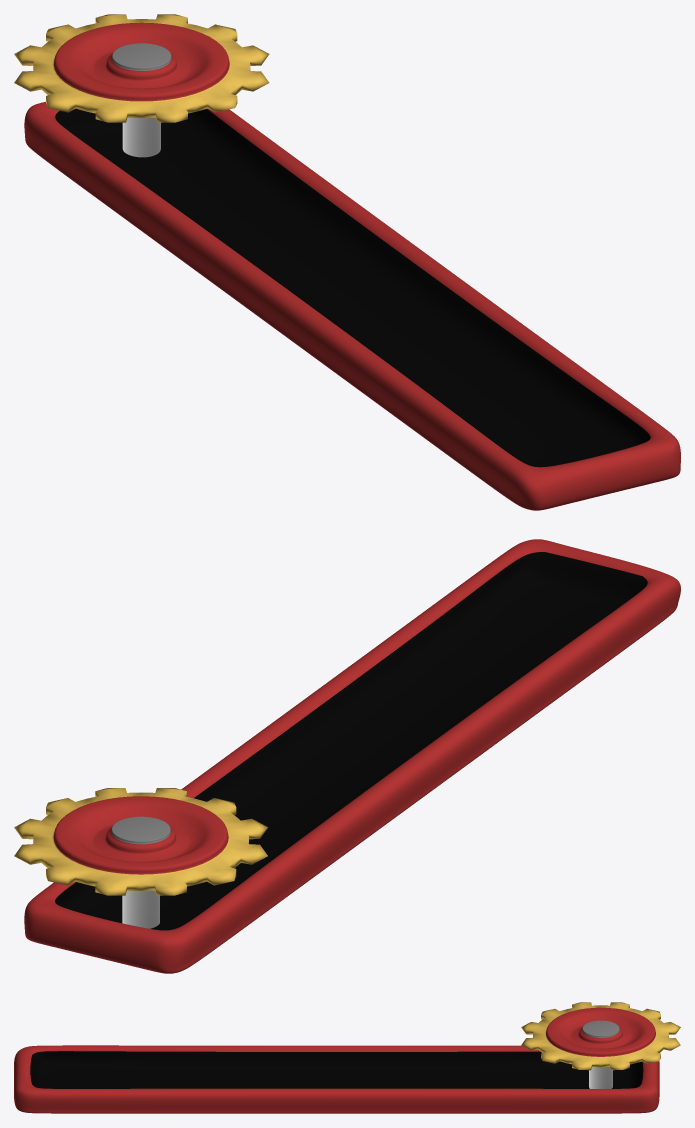
File: Saw.fbx
3 renders of one model, top to bottom at view 1: azimuth 30°, elevation 25°; view 2: azimuth 150°, elevation 25°; view 3: azimuth 270°, elevation 25°, orthographic. The views are drawn at different scales.
Parts seen in each view (by area): view 1: Cube, Gear; view 2: Cube, Gear; view 3: Cube, Gear.
Part boxes in pixels (<box>): Cube: <box>24,101,680,510</box>; Gear: <box>14,14,269,157</box>; Cube: <box>24,539,680,973</box>; Gear: <box>14,788,267,928</box>; Cube: <box>14,1045,659,1113</box>; Gear: <box>521,1002,680,1088</box>.
Bounding box in the file's own units: 212 × 90.13 × 884.
